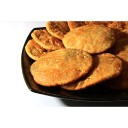poori: (31, 49, 92, 86), (61, 52, 123, 87), (65, 26, 116, 53), (33, 28, 67, 50), (26, 38, 49, 64), (46, 20, 72, 38)
